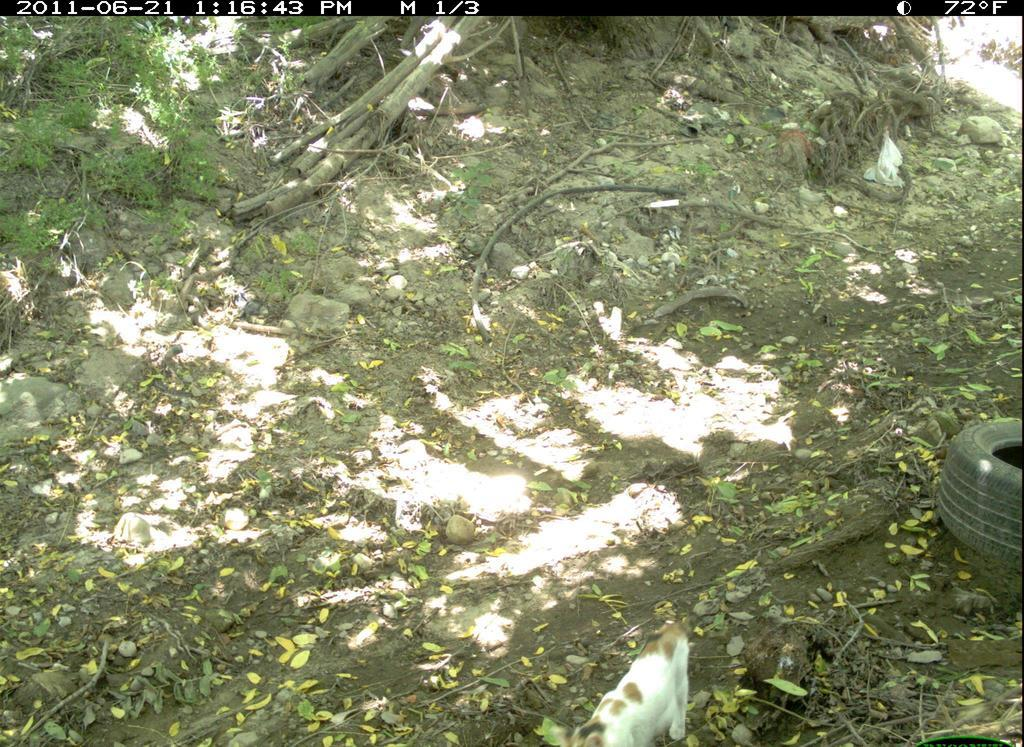cat: (557, 601, 715, 747)
